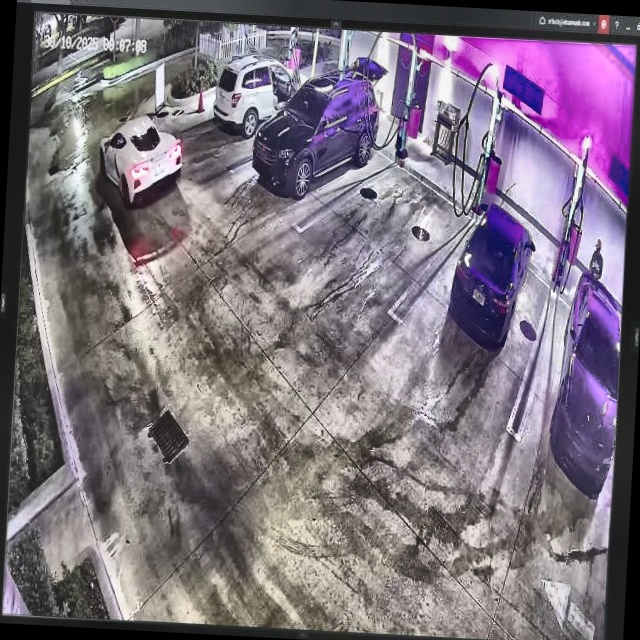Car: (252, 67, 380, 200), (450, 202, 535, 346), (97, 111, 184, 208)
